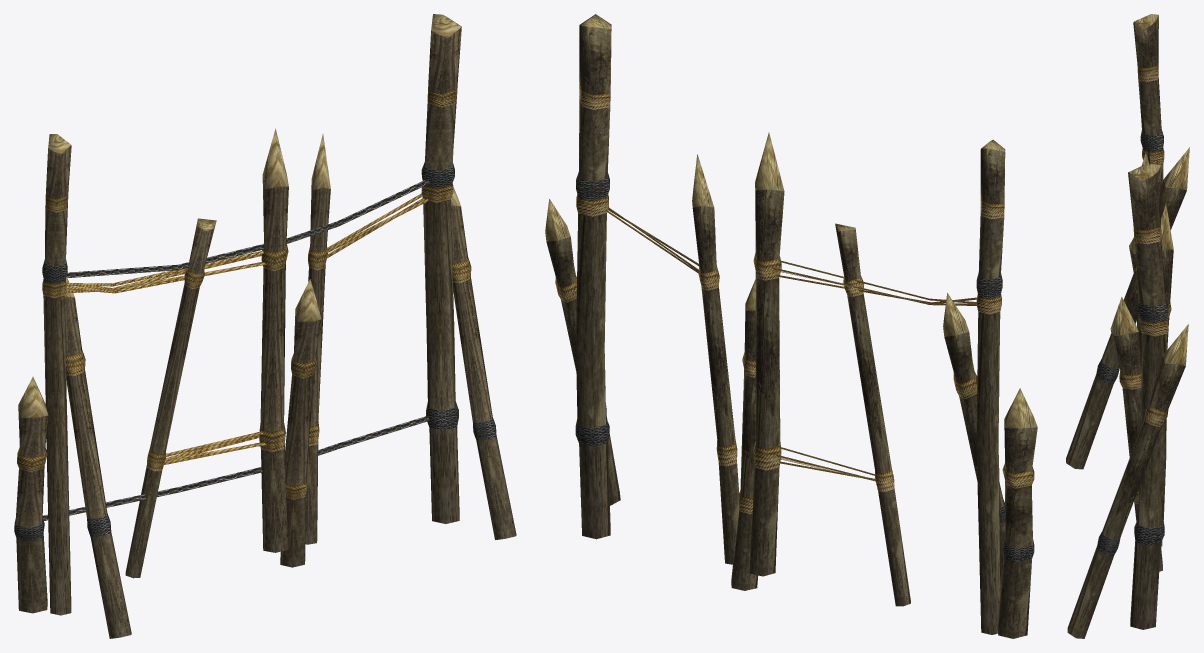
File: camp_manticore_gate01.fbx
3 renders of one model, left to right at view 1: azimuth 30°, elevation 25°; view 2: azimuth 150°, elevation 25°; view 3: azimuth 270°, elevation 25°, orthographic. The views are drawn at different scales.
Parts seen in each view (by area): view 1: camp_manticore_gate01; view 2: camp_manticore_gate01; view 3: camp_manticore_gate01.
Boxes of the visible parts, x1,y1,x2,y2 form: camp_manticore_gate01: (14,14,516,638); camp_manticore_gate01: (545,14,1037,638); camp_manticore_gate01: (1066,14,1189,638).
Size of the model in its own units: 13.16 by 13.91 by 3.32.
